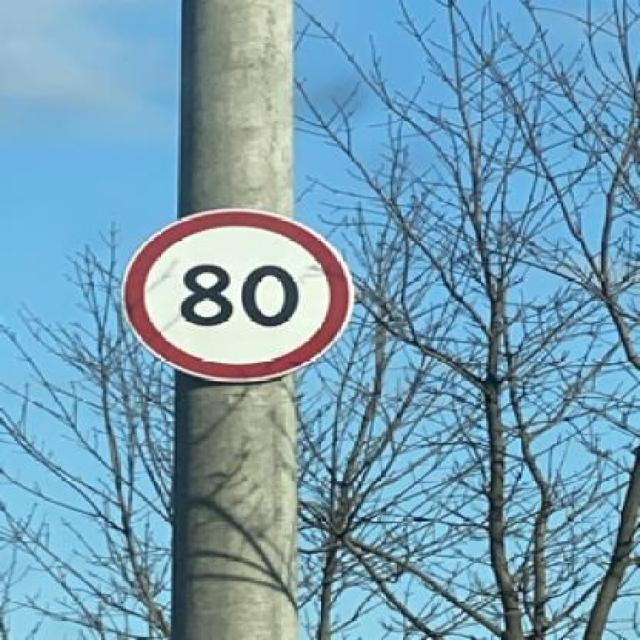forb_speed_over_80: (128, 207, 355, 379)
